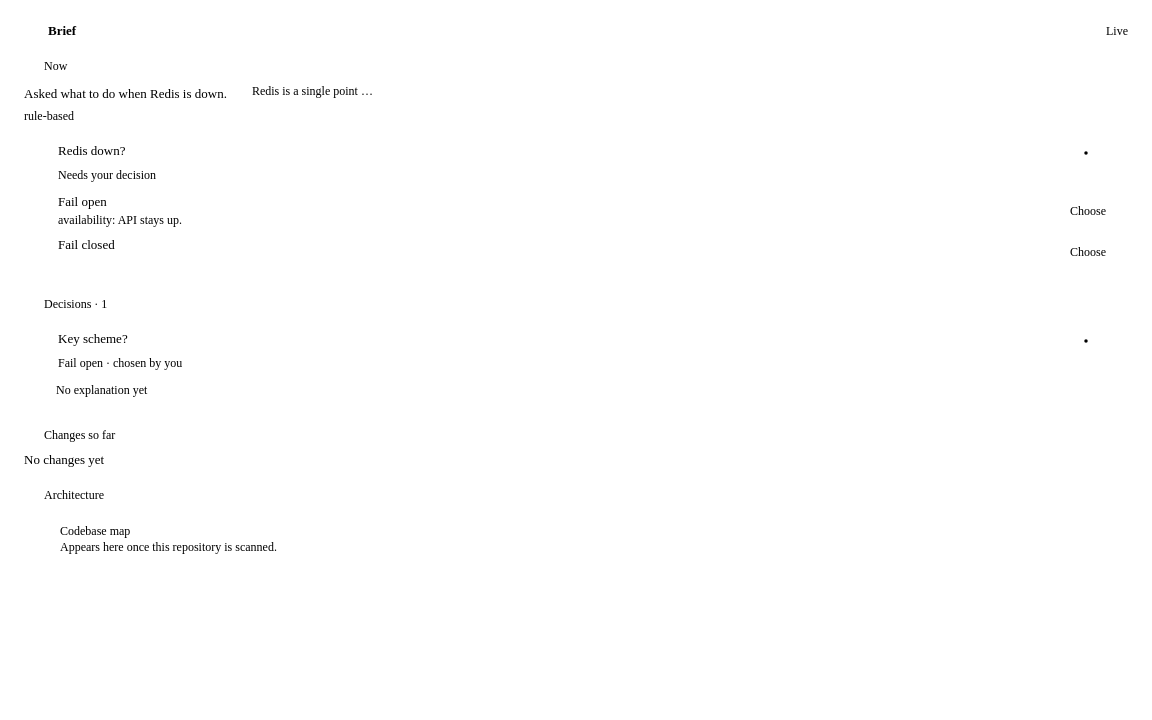
Test case: Brief story and decision cards (phase C, lane 07 S-4) › answers through the host by pointer, with Choose disabled while the answer is on its way and after it is sent
Click the button with aria-label "Choose Fail open": point(1088, 210) 1060,198 -> 1116,224
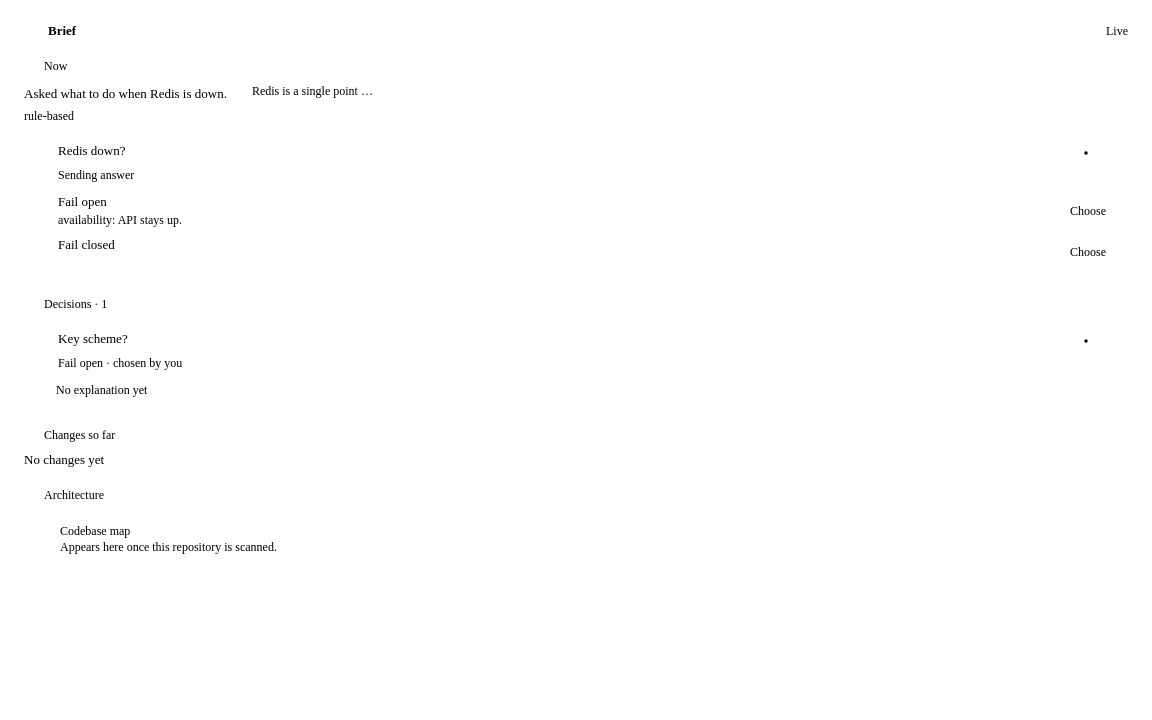
Result: the text "Sending answer" is shown at 58,168 -> 134,182
Click the button with aria-label "Choose Fail closed": point(1088, 252) 1060,239 -> 1116,265
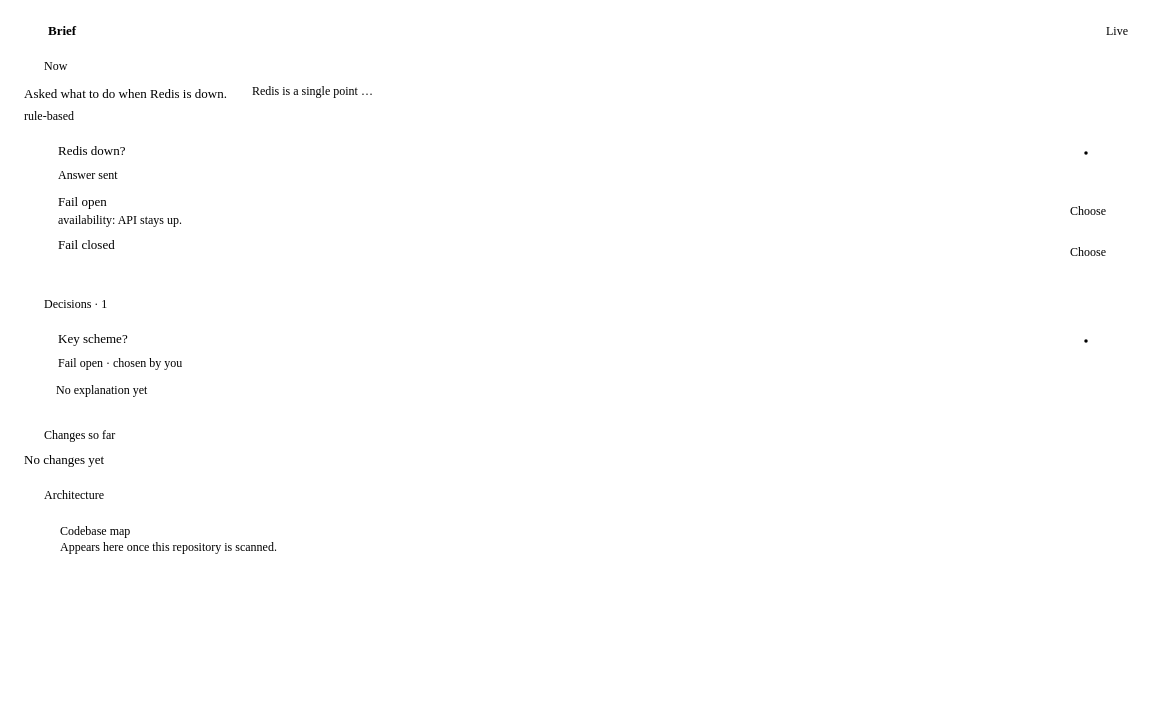
Result: the text "Answer sent" is shown at 58,168 -> 118,182
